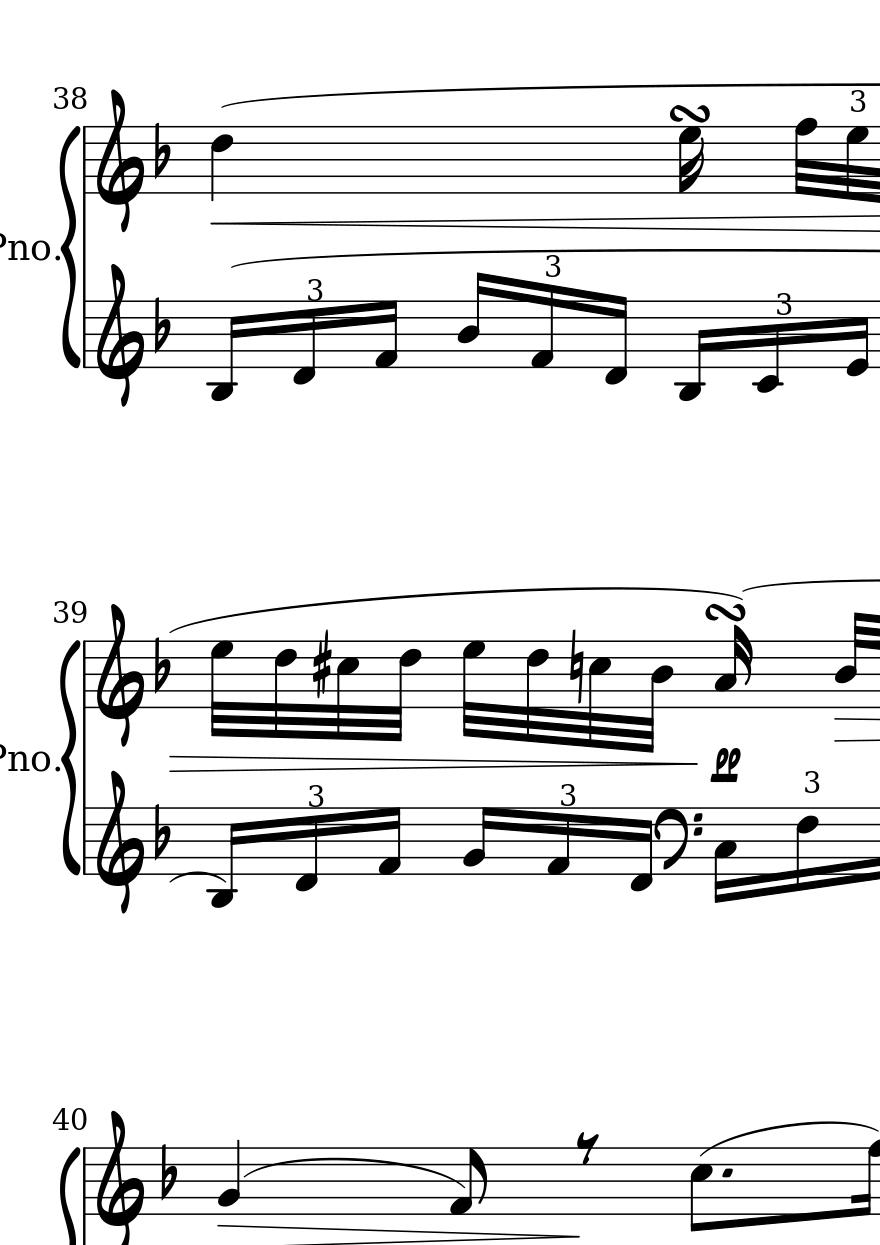0: (70, 1105, 87, 1133)
16_-1: (603, 293, 629, 388), (293, 806, 319, 893), (628, 805, 653, 895), (292, 299, 317, 387)
16_-2: (753, 300, 780, 395)
16_-3: (207, 298, 242, 404), (675, 298, 709, 404)
16_-4: (206, 807, 242, 909)
16_0: (845, 299, 870, 379)
16_1: (527, 281, 556, 372), (373, 298, 400, 371), (376, 805, 403, 878), (545, 806, 572, 878)
16_2: (460, 805, 492, 876)
16_3: (714, 625, 752, 709), (712, 806, 737, 904)
16_4: (455, 270, 488, 370)
16_6: (794, 805, 819, 893)
16_7: (677, 124, 704, 198)
3: (775, 291, 794, 318), (848, 87, 866, 115), (51, 85, 70, 111), (51, 599, 69, 625), (306, 277, 323, 303), (803, 770, 820, 796), (559, 783, 576, 808), (307, 784, 324, 809)
32_4: (639, 638, 675, 755), (833, 610, 866, 709)
32_5: (336, 638, 362, 742), (588, 640, 612, 748)
32_6: (386, 636, 422, 745), (524, 638, 549, 745), (273, 638, 297, 741)
32_7: (460, 637, 485, 741), (208, 638, 233, 740), (844, 125, 869, 203)
32_8: (793, 117, 817, 201)
4: (51, 1105, 69, 1133)
4_2: (216, 1137, 242, 1216)
4_6: (209, 124, 234, 205)
8: (69, 85, 87, 111)
8_1: (449, 1146, 489, 1217)
8_5: (688, 1146, 714, 1234)
9: (68, 598, 88, 626)
Brace: (58, 122, 81, 369), (61, 637, 81, 877)
Diminuendo_hairpin: (169, 755, 700, 774)
Fclef: (656, 805, 703, 876)
Flat: (151, 120, 172, 180), (150, 801, 171, 861), (151, 635, 172, 694), (151, 295, 171, 354), (158, 1142, 178, 1201)
Gclef: (94, 86, 144, 234), (94, 601, 144, 749), (95, 769, 145, 916), (95, 262, 144, 409), (94, 1108, 145, 1245)
Natural: (567, 627, 585, 706)
Rests8: (574, 1131, 600, 1165)
Sharp: (311, 629, 332, 699)
Single_barline: (80, 125, 94, 194), (79, 1148, 92, 1215), (79, 808, 92, 874), (79, 301, 92, 366), (80, 643, 91, 710)
Slur: (243, 1156, 465, 1191), (169, 869, 223, 884)
Turn: (701, 600, 751, 624)
dot: (720, 1165, 735, 1181)
pp: (709, 746, 743, 783)
